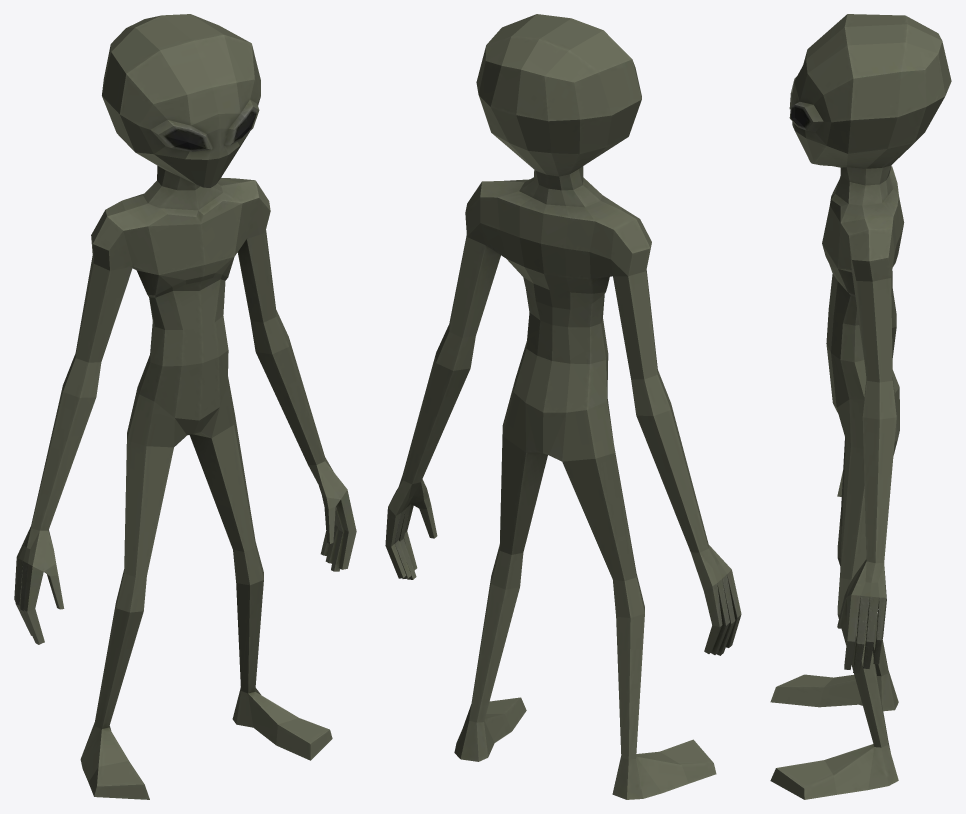
Rendered from 6FrJ3_CzH8S.glb.
The picture shows the model from 3 angles, left to right: view 1: azimuth 30°, elevation 25°; view 2: azimuth 150°, elevation 25°; view 3: azimuth 270°, elevation 25°; orthographic projection. The views are drawn at different scales.
Visible parts, largest first — view 1: Alien_mesh; view 2: Alien_mesh; view 3: Alien_mesh.
Part boxes in pixels (x1=…): Alien_mesh: x1=14, y1=14, x2=356, y2=799; Alien_mesh: x1=385, y1=14, x2=741, y2=799; Alien_mesh: x1=770, y1=14, x2=951, y2=799.
Size of the model in its own units: 0.482 by 1 by 0.229.
Materials: 1 (1 with a texture image).
